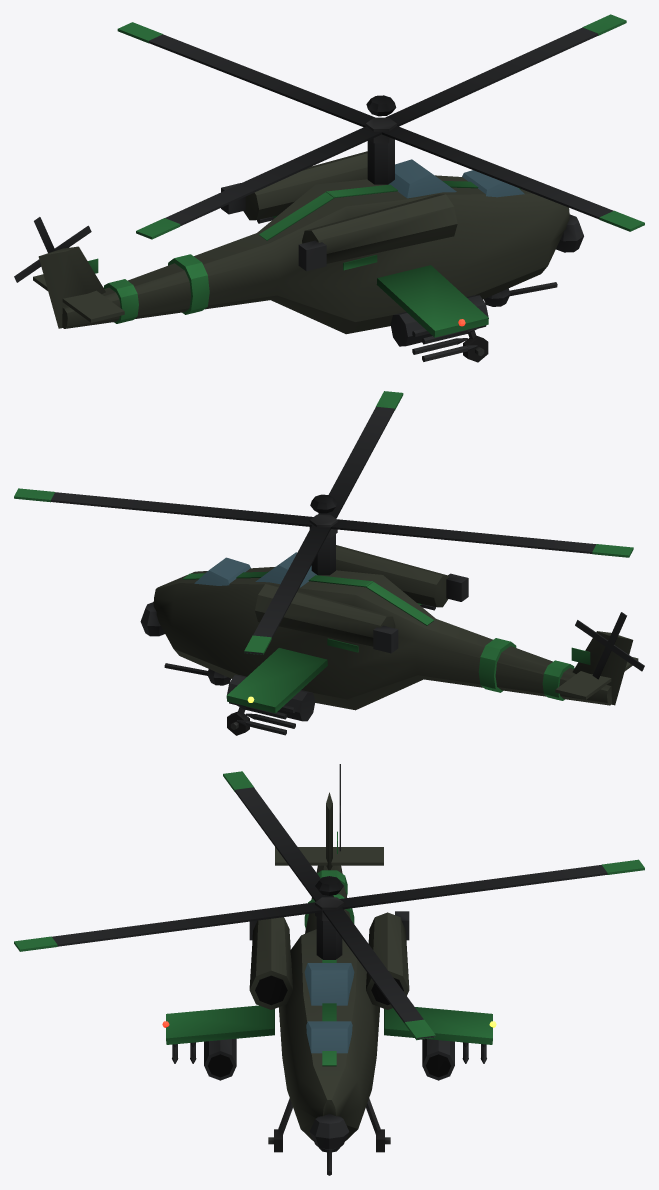
The model's file is u_gunship_lod1.glb.
The picture shows the model from 3 angles, top to bottom: view 1: azimuth 30°, elevation 25°; view 2: azimuth 150°, elevation 25°; view 3: azimuth 270°, elevation 25°; orthographic projection. The views are drawn at different scales.
Visible parts, largest first — view 1: Gunship_LOD1_Walls, Gunship_LOD1_rotor, Gunship_LOD1_Details; view 2: Gunship_LOD1_Walls, Gunship_LOD1_rotor, Gunship_LOD1_Details; view 3: Gunship_LOD1_Walls, Gunship_LOD1_rotor, Gunship_LOD1_Details.
Part boxes in pixels (left/top/right/bottom): Gunship_LOD1_Walls: left=33, top=151, right=569, bottom=337; Gunship_LOD1_rotor: left=117, top=14, right=644, bottom=239; Gunship_LOD1_Details: left=14, top=139, right=583, bottom=362; Gunship_LOD1_Walls: left=153, top=545, right=638, bottom=713; Gunship_LOD1_rotor: left=14, top=391, right=633, bottom=654; Gunship_LOD1_Details: left=140, top=534, right=644, bottom=735; Gunship_LOD1_Walls: left=166, top=792, right=492, bottom=1140; Gunship_LOD1_rotor: left=14, top=771, right=644, bottom=1040; Gunship_LOD1_Details: left=162, top=764, right=496, bottom=1175.
Bounding box in the file's own units: 1.94 × 0.739 × 1.74.
